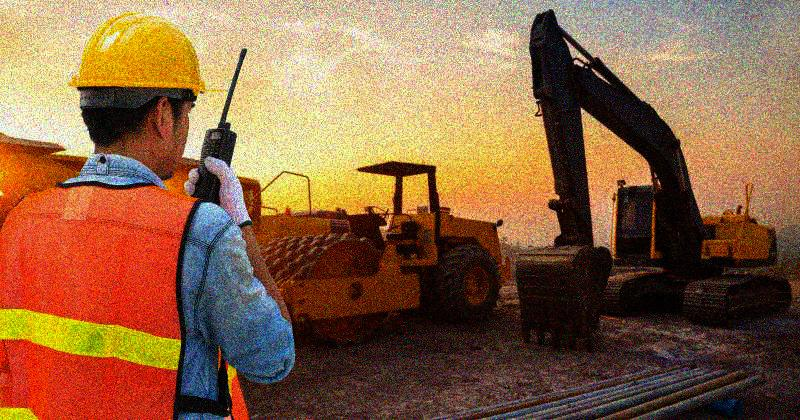helmet: (68, 10, 226, 184)
